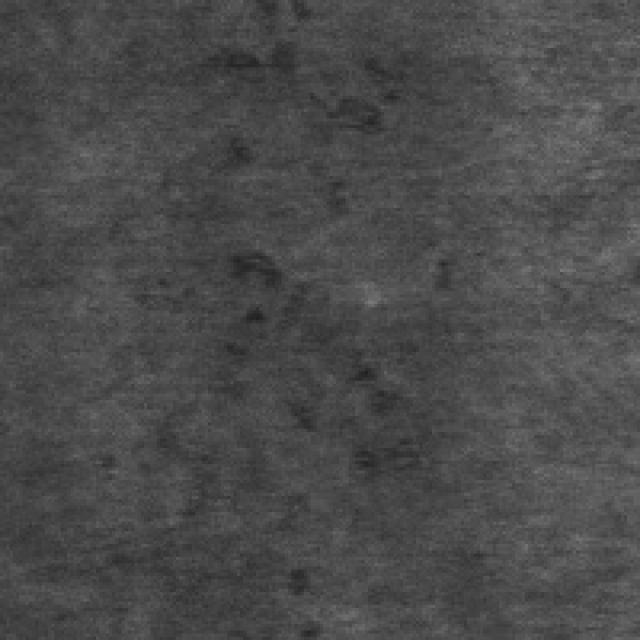rolled-in_scale: (215, 240, 406, 467)
